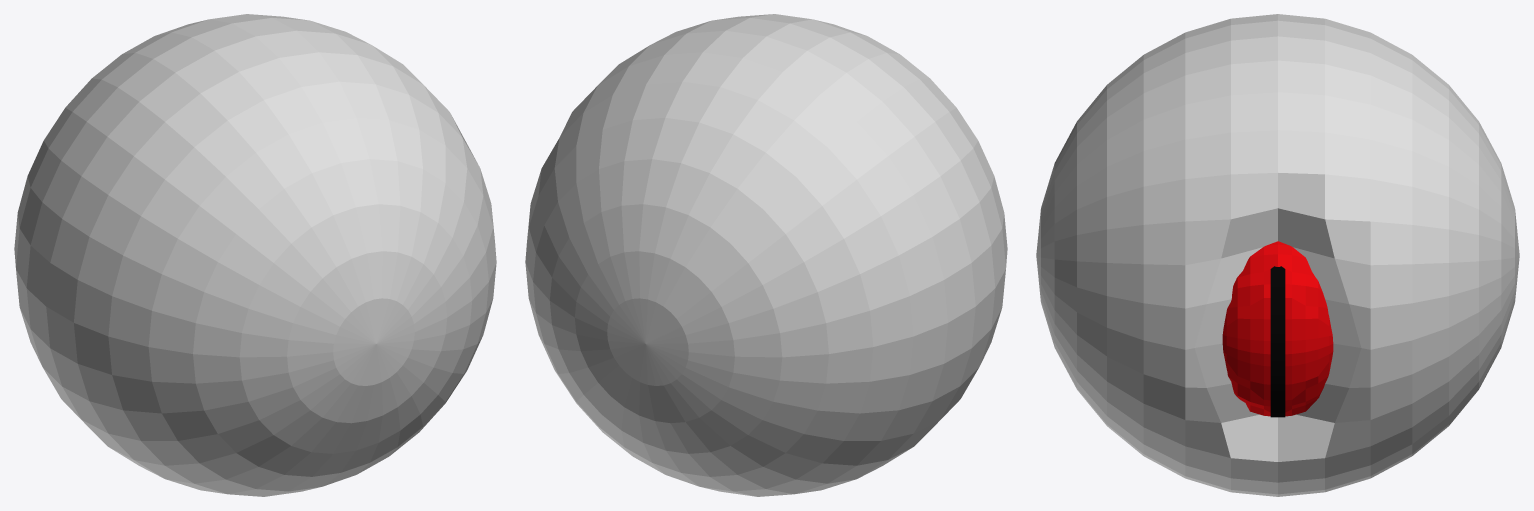
The model's file is Luna.fbx.
3 views of the same model, side by side, from view 1: azimuth 30°, elevation 25°; view 2: azimuth 150°, elevation 25°; view 3: azimuth 270°, elevation 25° (orthographic).
Visible parts, largest first — view 1: Sphere; view 2: Sphere; view 3: Sphere, Sphere.001, Cube.
Part boxes in pixels (box(x1,y1,x2,y2)): Sphere: box(14, 14, 496, 496); Sphere: box(525, 14, 1007, 496); Sphere: box(1036, 14, 1519, 496); Sphere.001: box(1222, 241, 1333, 416); Cube: box(1270, 266, 1285, 417).
Size of the model in its own units: 199 by 200 by 200.
